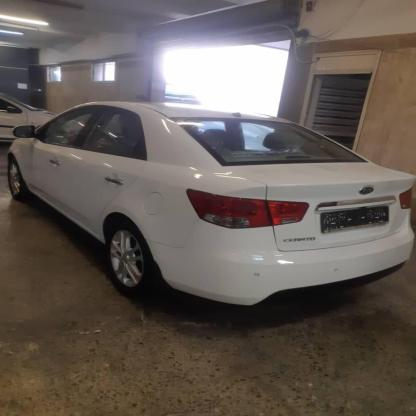Car: (0, 109, 416, 321), (0, 88, 59, 138)
